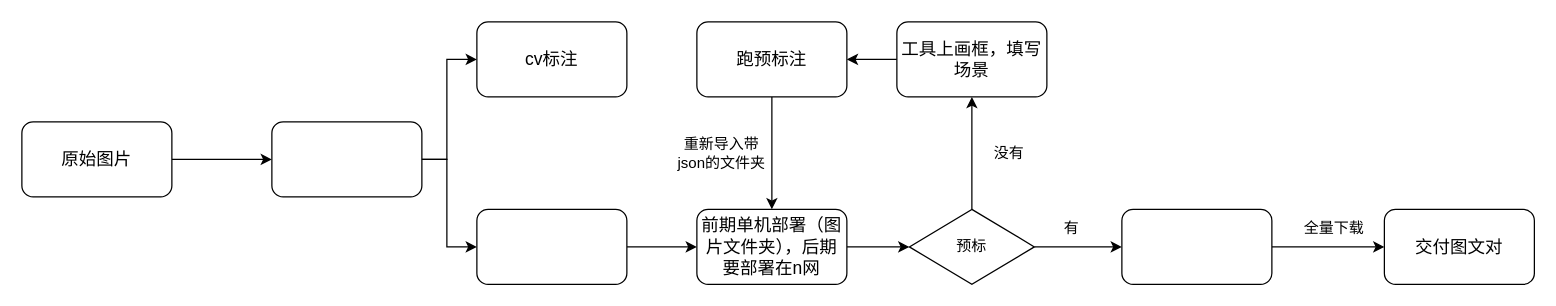
This 1556x306 diagram has some shape labels left out. The centre of each missing label's shape, as x and y in pixels:
图文对: point 551,246
在工具上质检修改: point 1196,246
筛图: point 346,159
